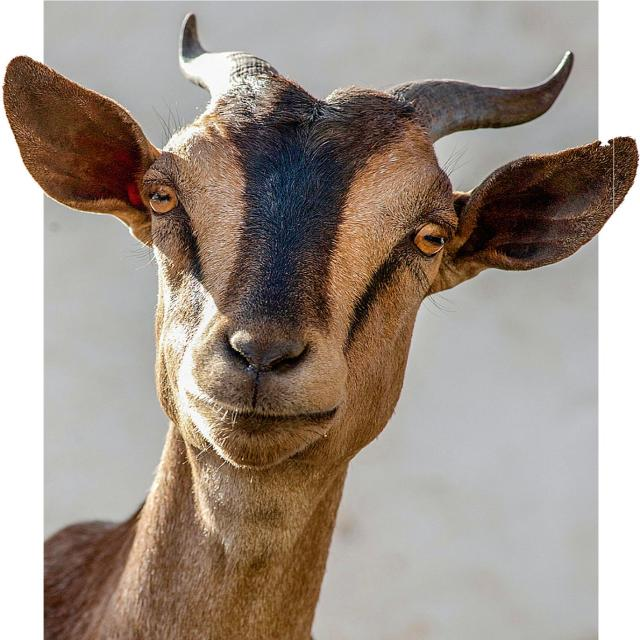goat: (4, 14, 638, 640)
